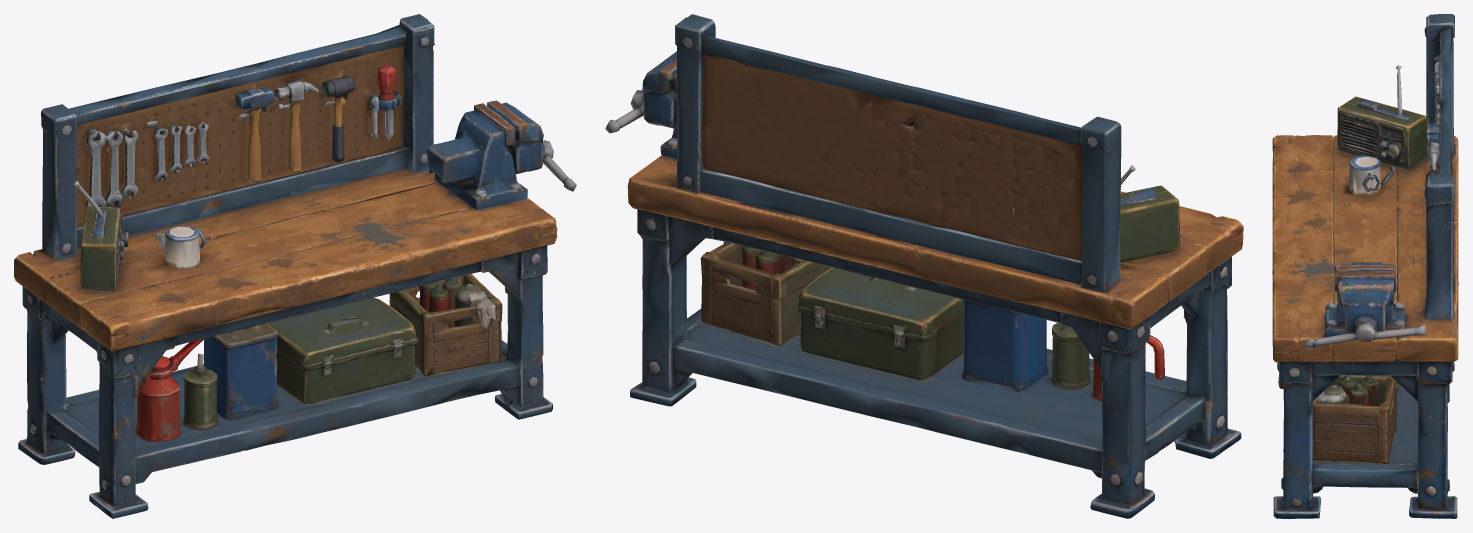
File: ws_bench.glb
The picture shows the model from 3 angles, left to right: view 1: azimuth 30°, elevation 25°; view 2: azimuth 150°, elevation 25°; view 3: azimuth 270°, elevation 25°; orthographic projection. The views are drawn at different scales.
Size of the model in its own units: 0.9801 by 0.6503 by 0.3454.
1 material, 1 textured.
